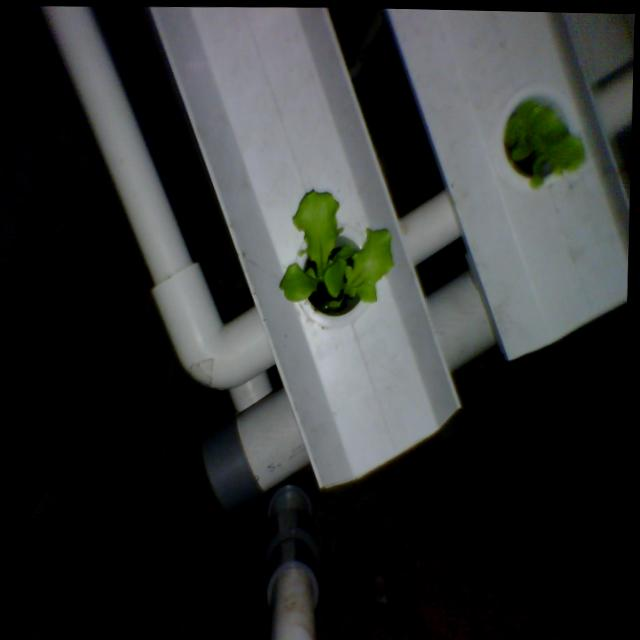FN: (270, 178, 407, 331), (494, 88, 593, 197)
